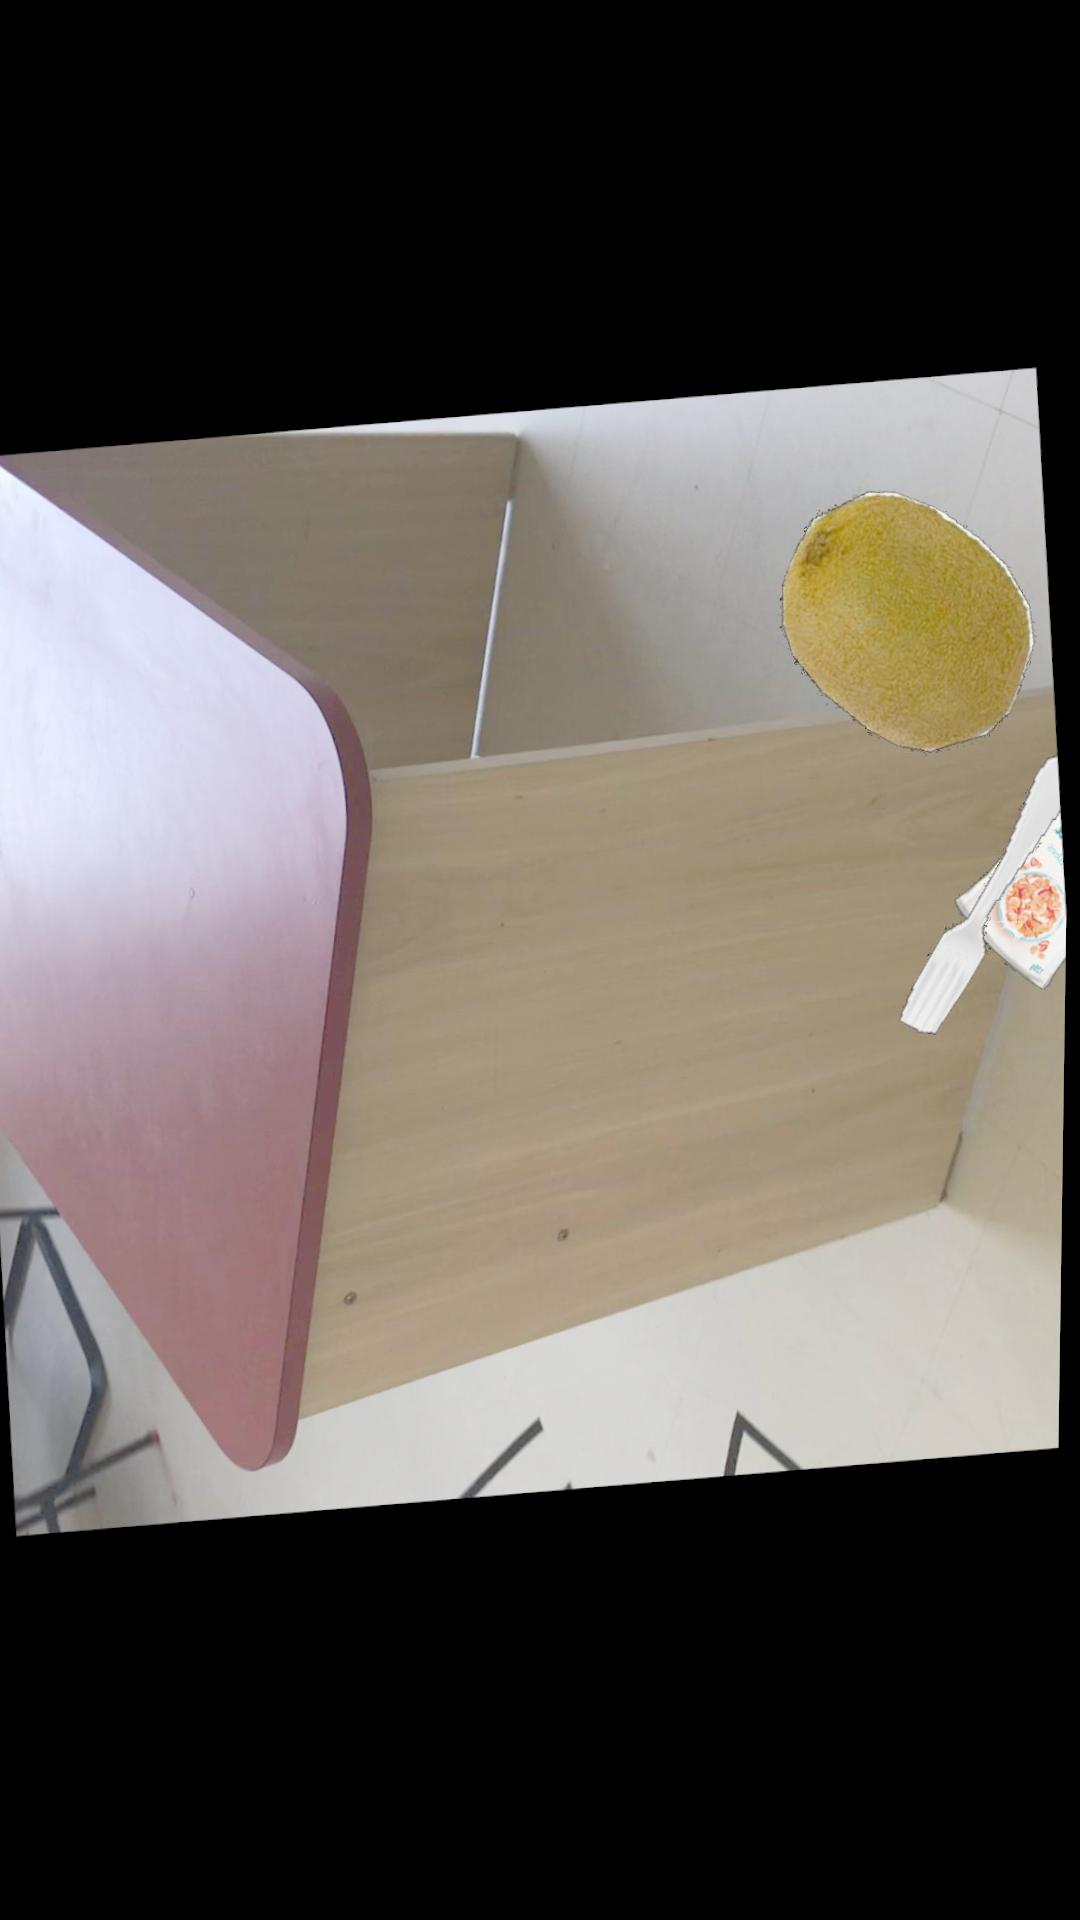corn flakes: (955, 812, 1069, 994)
fork: (899, 760, 1063, 1039)
kiwi: (779, 496, 1034, 757)
